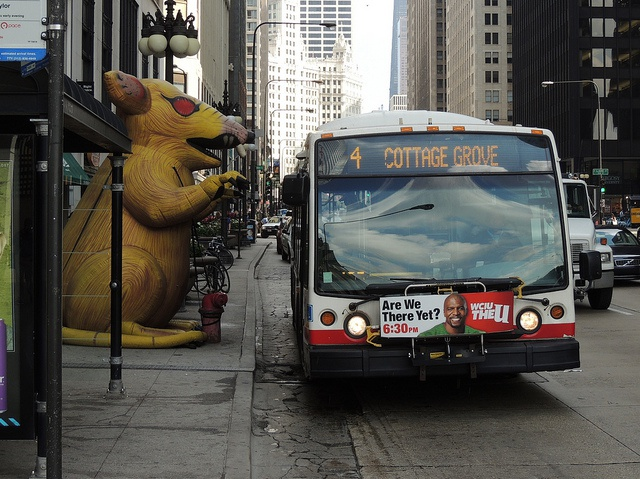non-vehicle: (193, 263, 229, 294), (203, 241, 234, 270)
